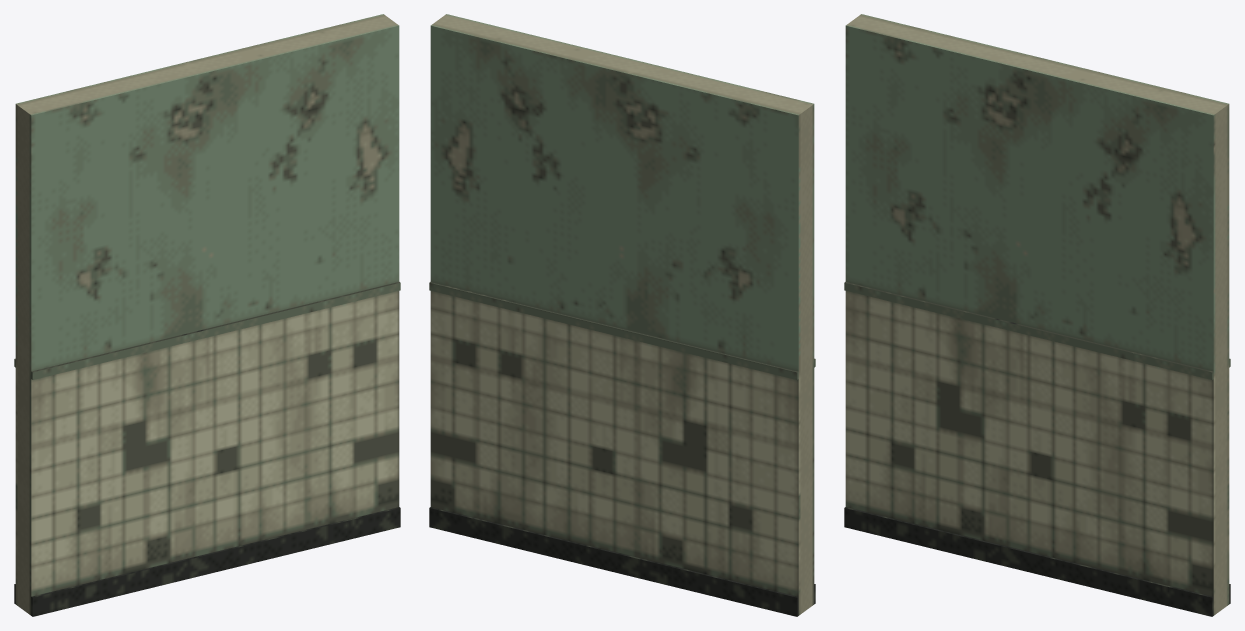
Rendered from Wall_2m_01.obj.
The picture shows the model from 3 angles, left to right: view 1: azimuth 30°, elevation 25°; view 2: azimuth 150°, elevation 25°; view 3: azimuth 330°, elevation 25°; orthographic projection.
Visible parts, largest first — view 1: Wall_2m_01; view 2: Wall_2m_01; view 3: Wall_2m_01.
Boxes of the visible parts, left/top/right/bottom form: Wall_2m_01: left=14, top=14, right=400, bottom=616; Wall_2m_01: left=429, top=14, right=815, bottom=616; Wall_2m_01: left=844, top=14, right=1230, bottom=616.
Size of the model in its own units: 2 by 2.6 by 0.174.
1 material, 1 textured.
